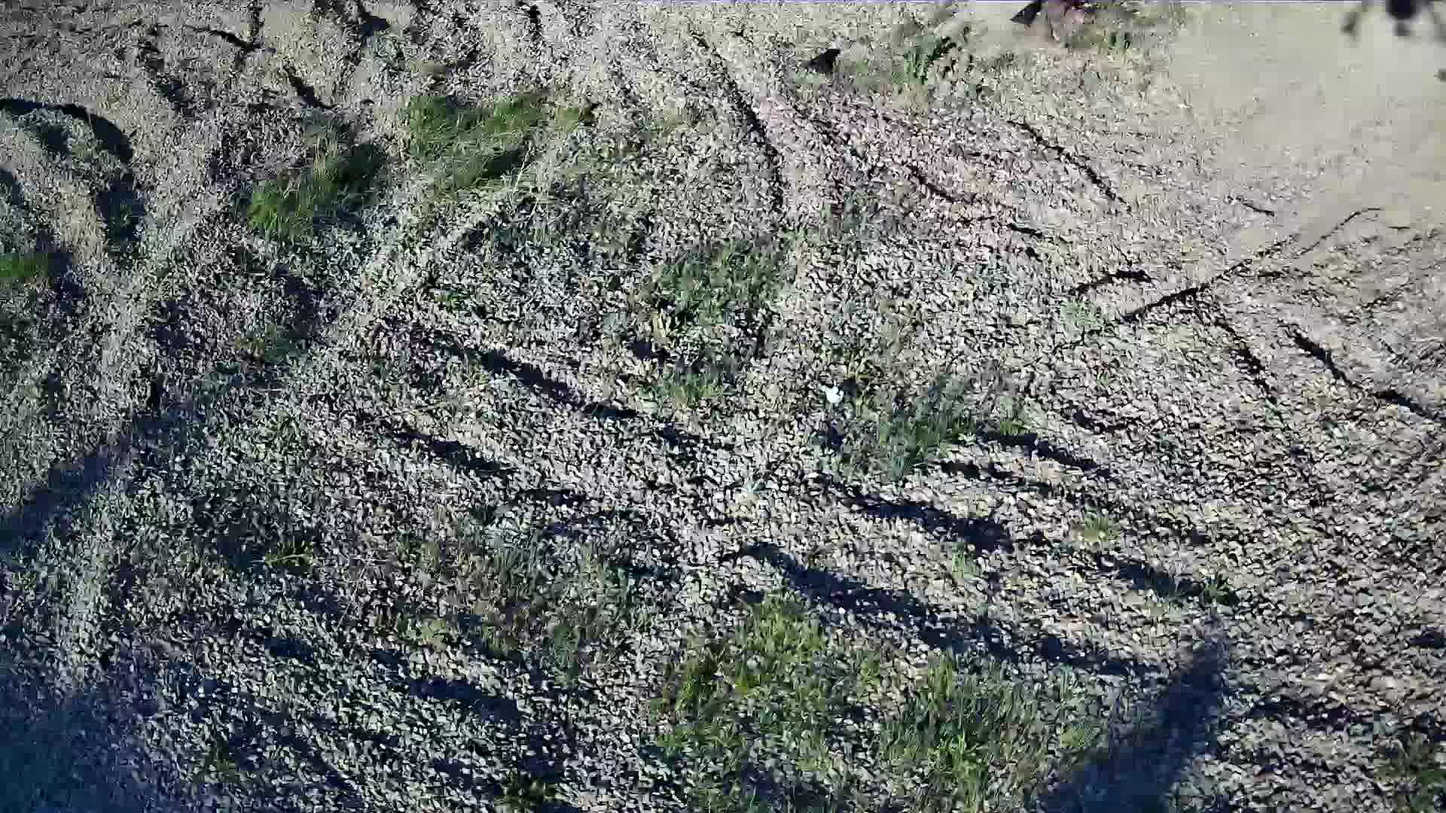Target: (824, 386, 846, 403)
